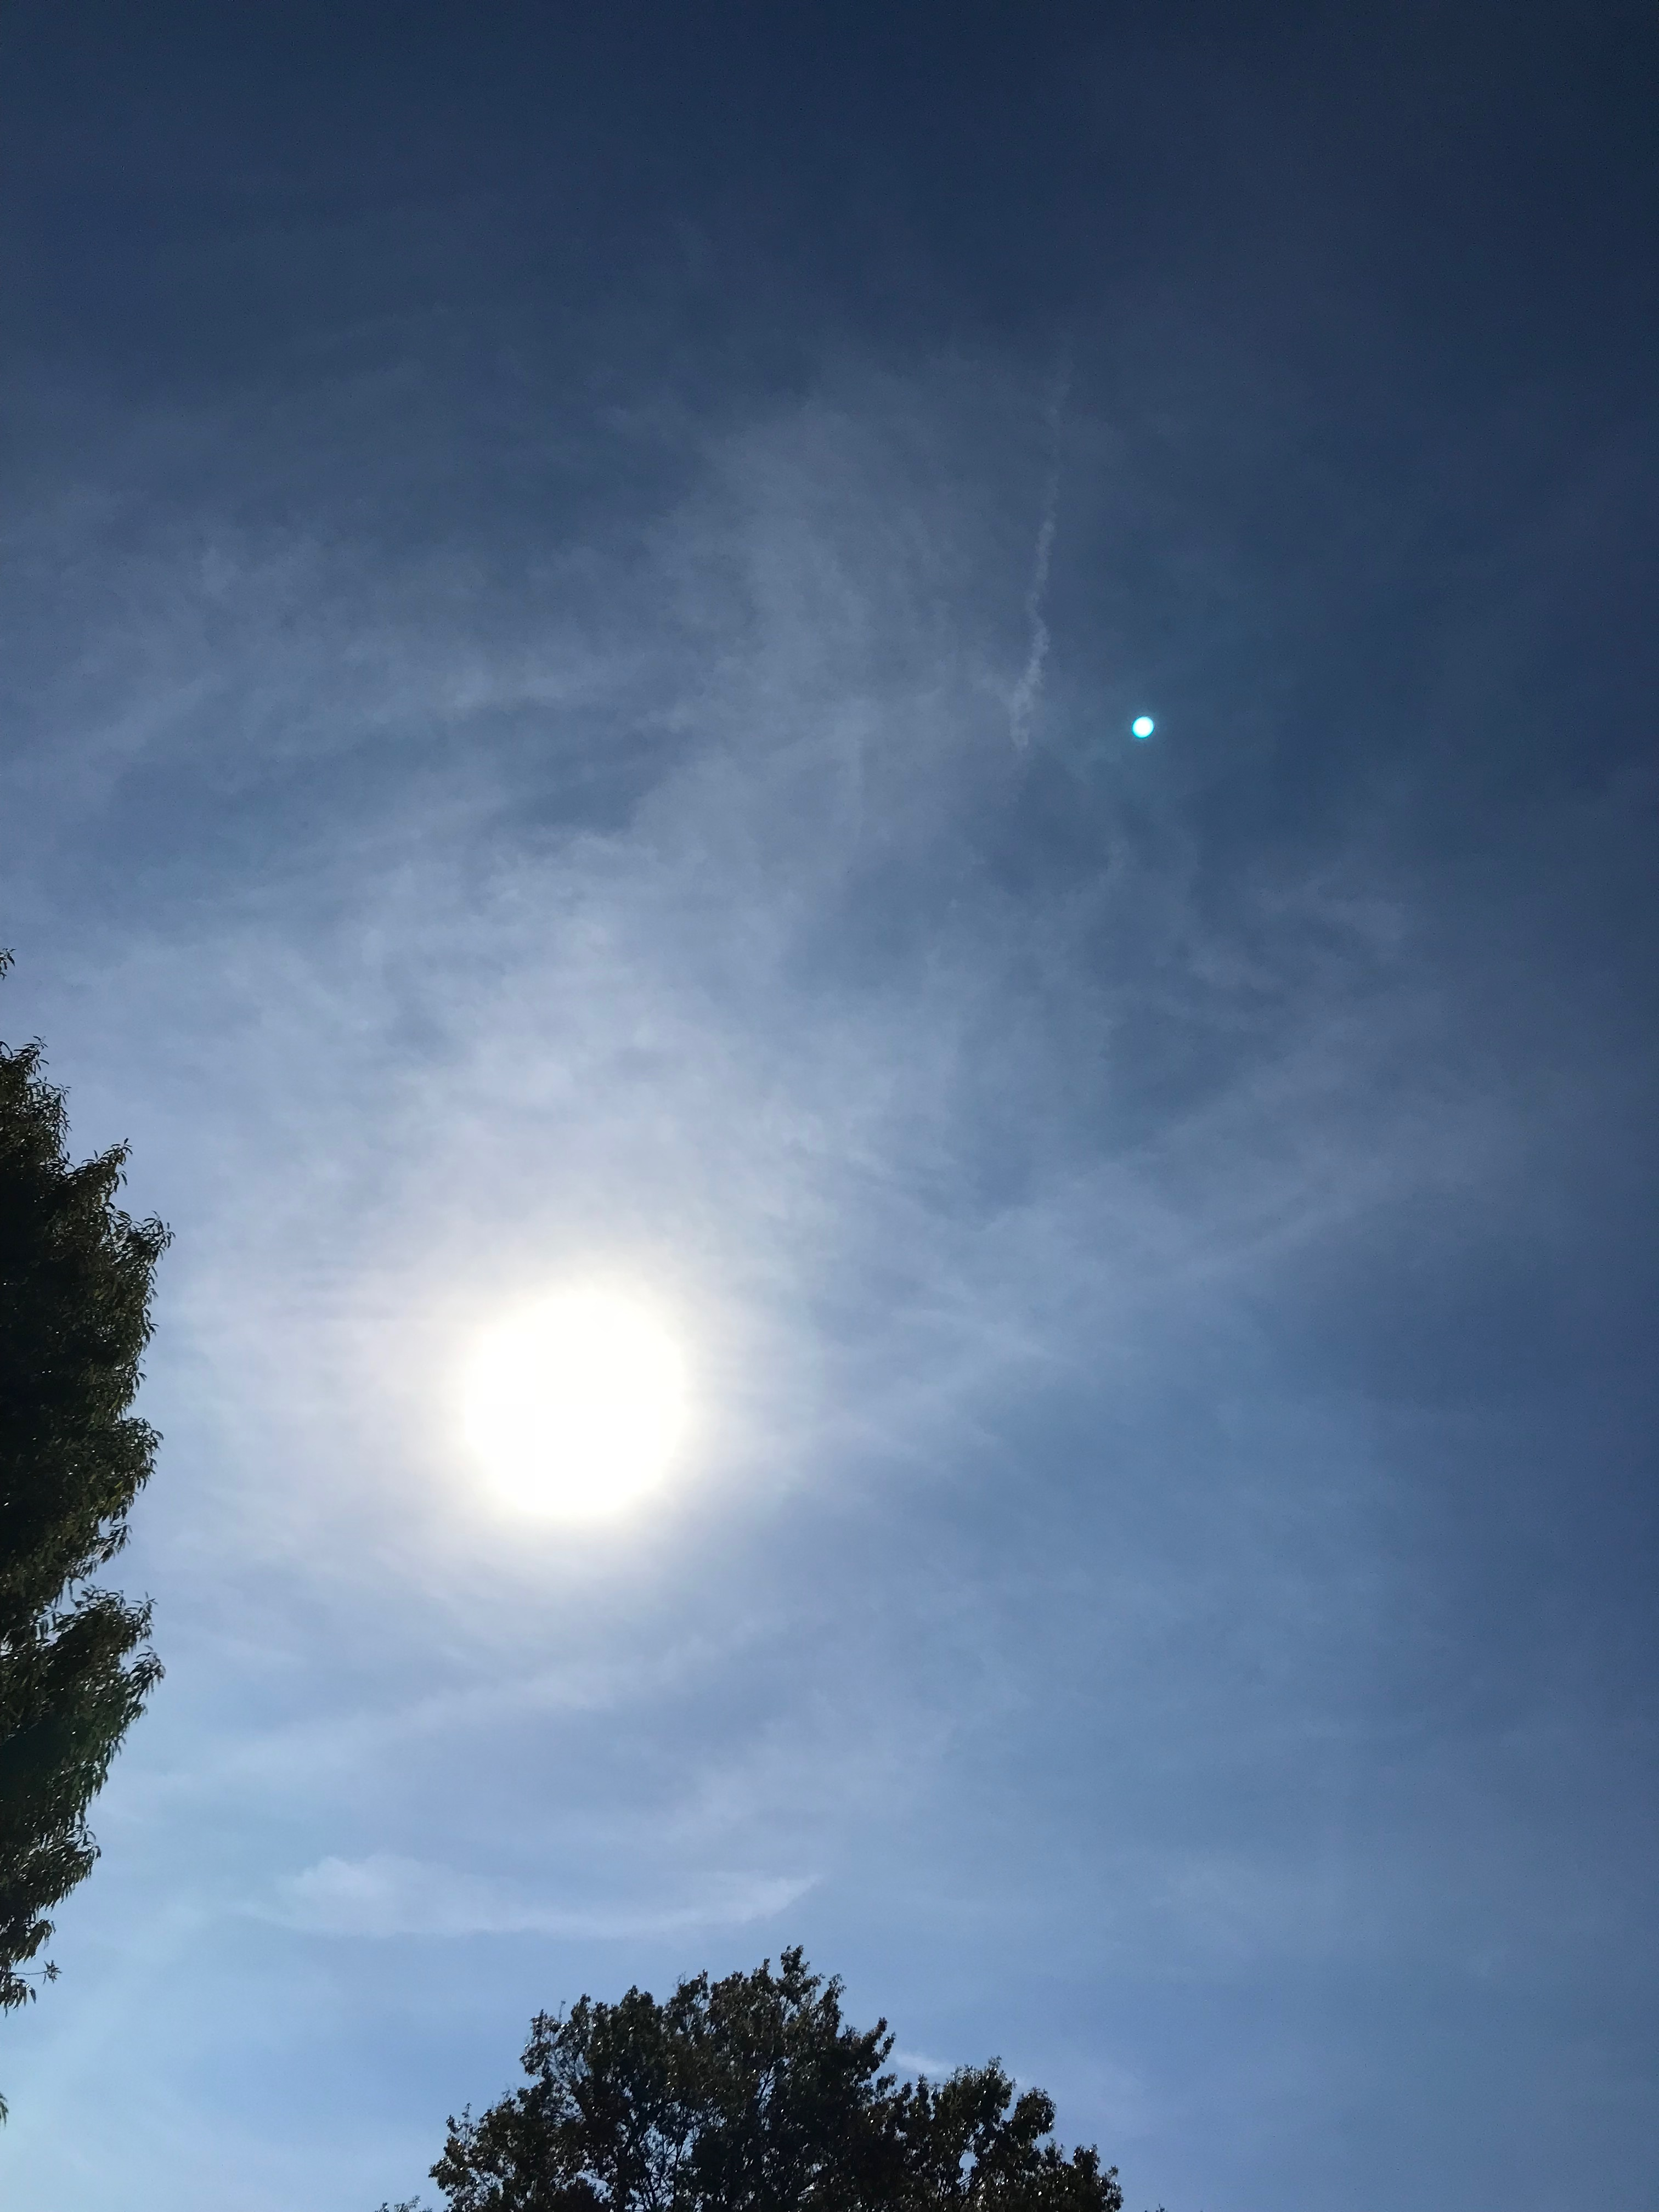flare: (1131, 716, 1157, 740)
